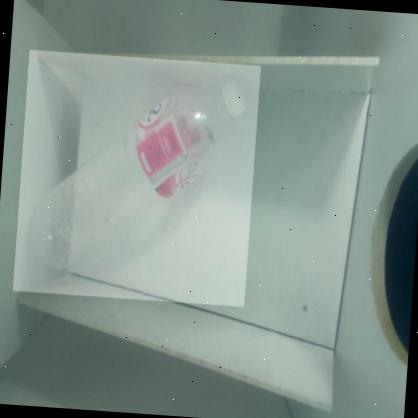bottle: (13, 50, 261, 307)
cap: (217, 76, 249, 125)
label: (130, 81, 202, 201)
